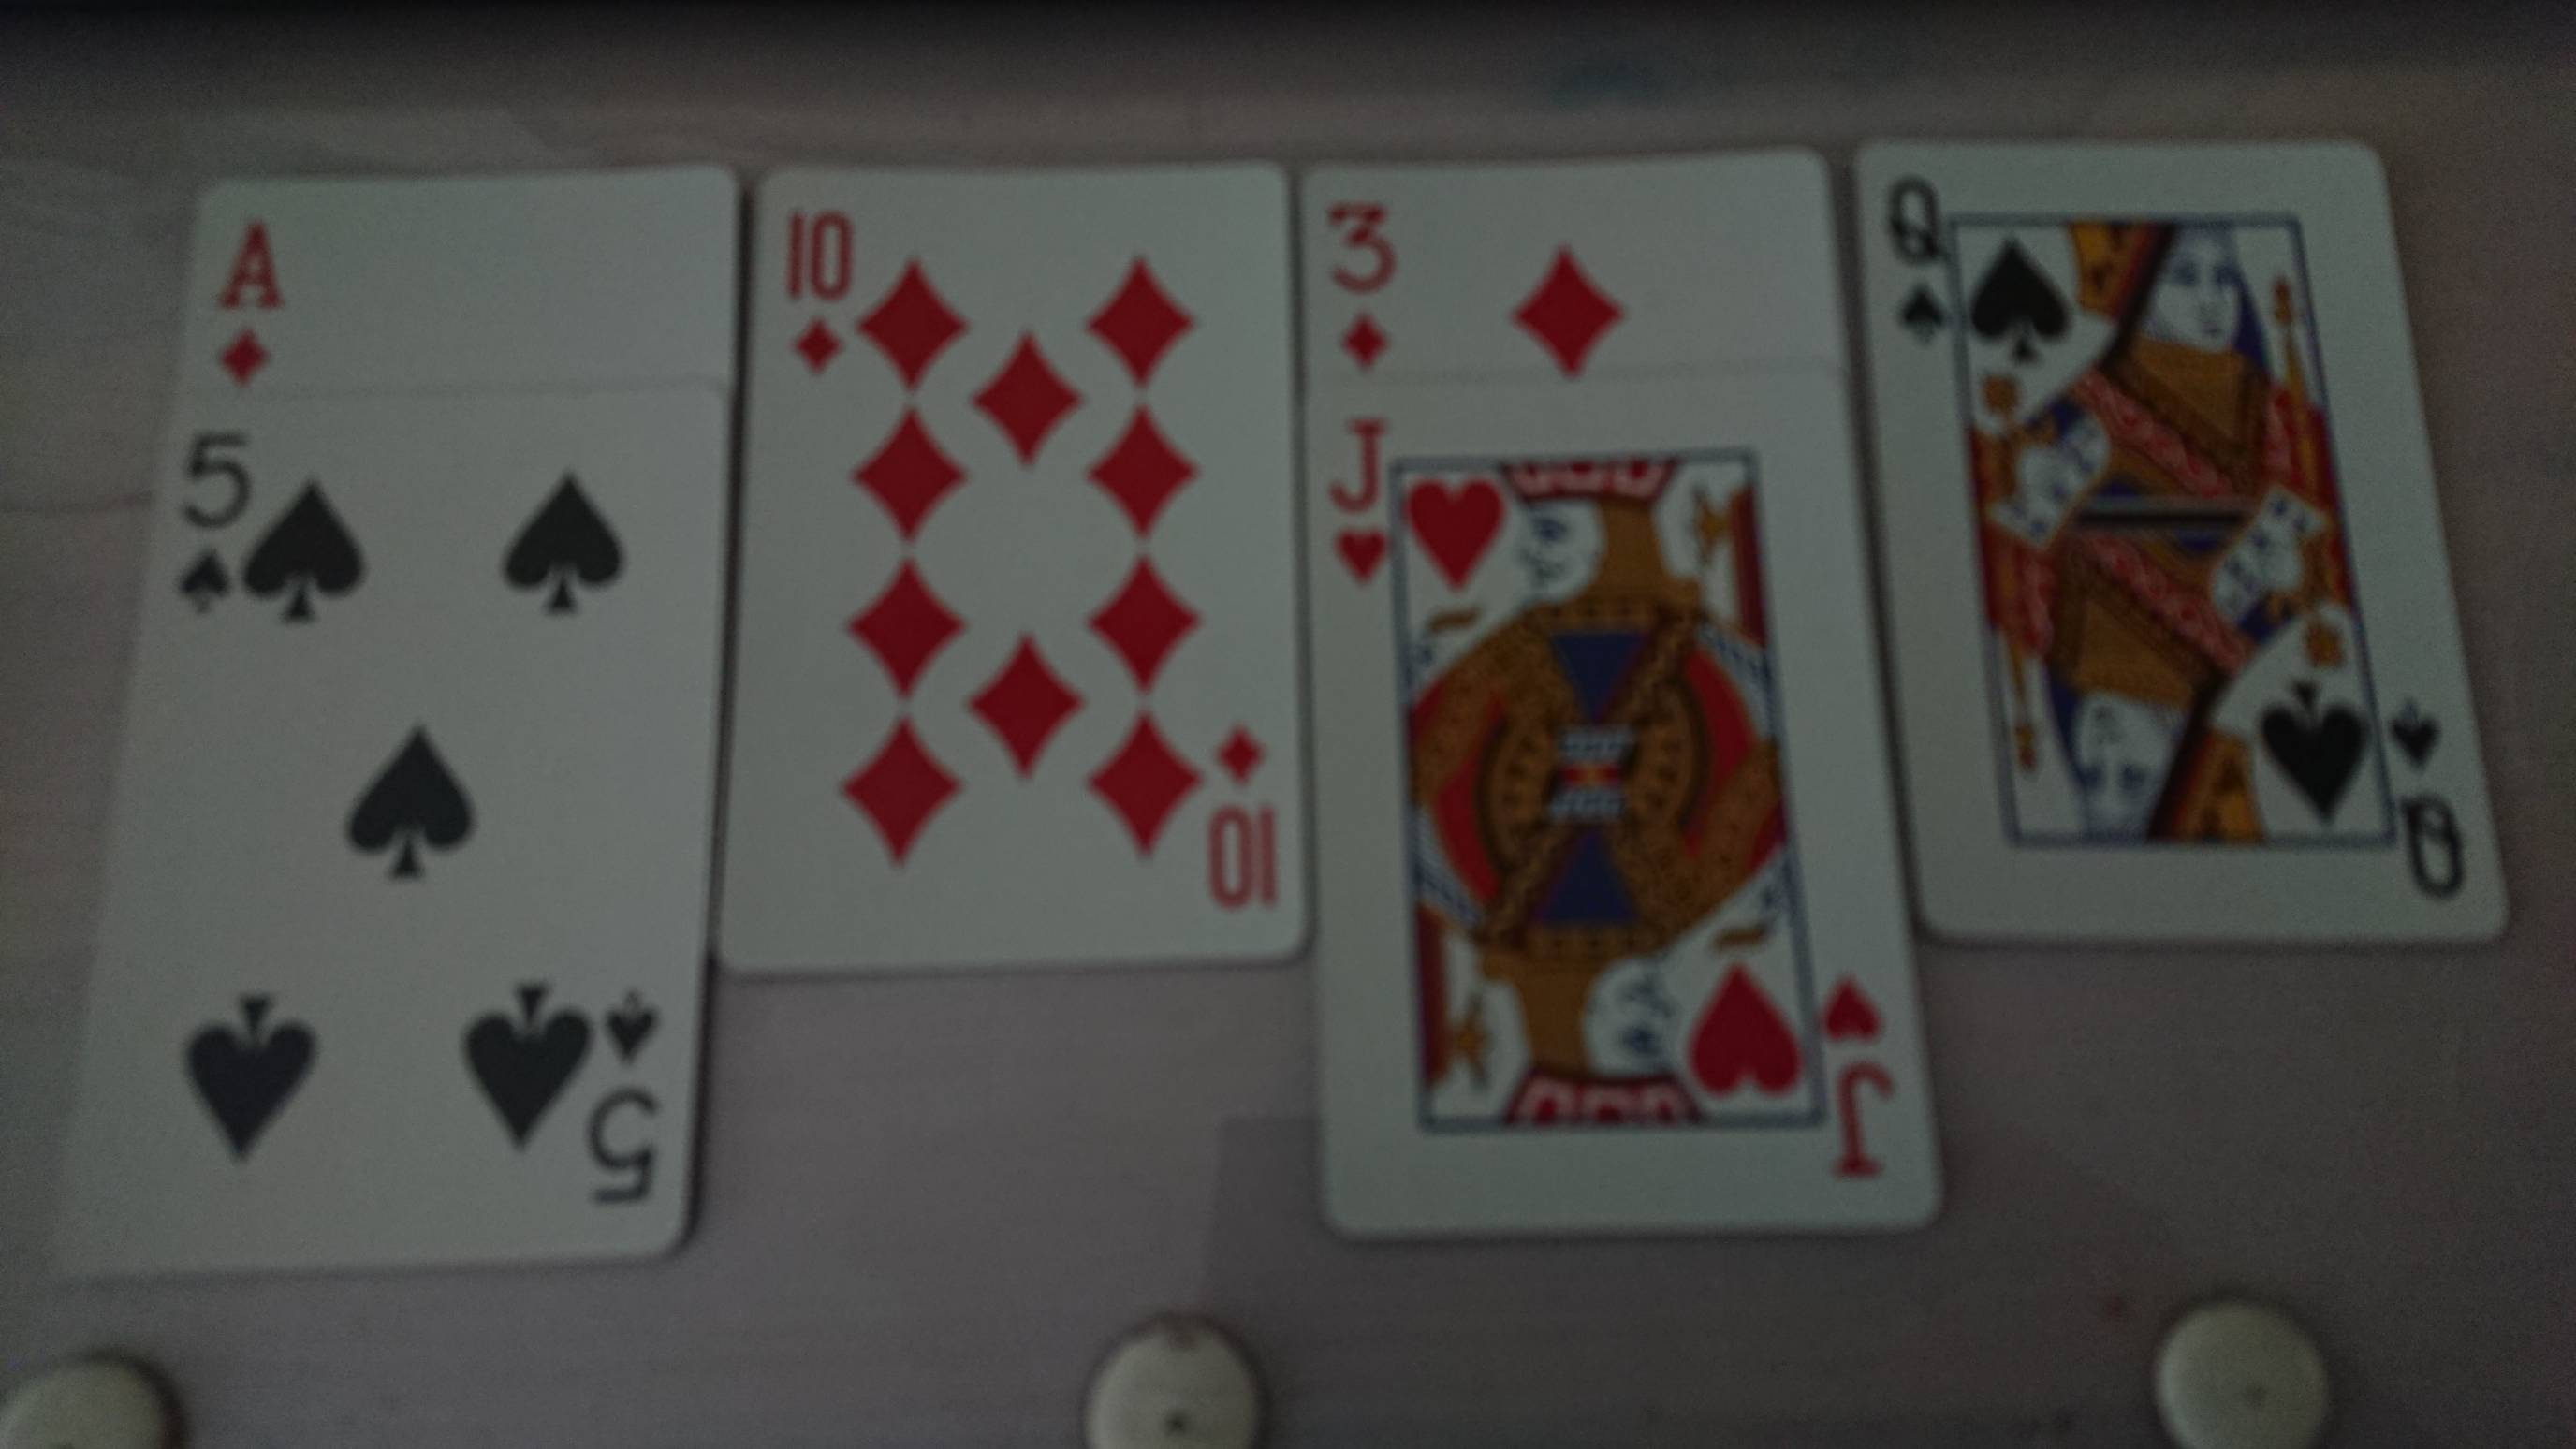10D: (777, 202, 862, 384)
3D: (1320, 191, 1407, 379)
5S: (172, 425, 257, 625)
AD: (207, 214, 297, 398)
JH: (1320, 405, 1399, 594)
QS: (1877, 165, 1962, 352)
